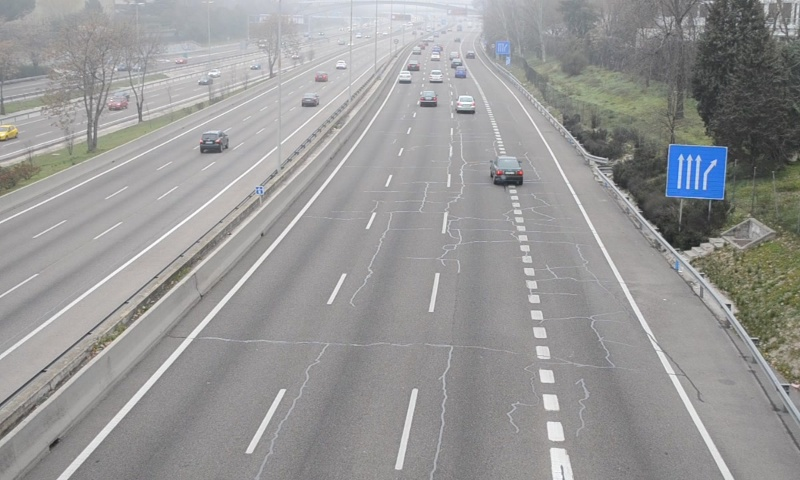car: (492, 155, 524, 186), (456, 94, 476, 114), (419, 89, 437, 107)
